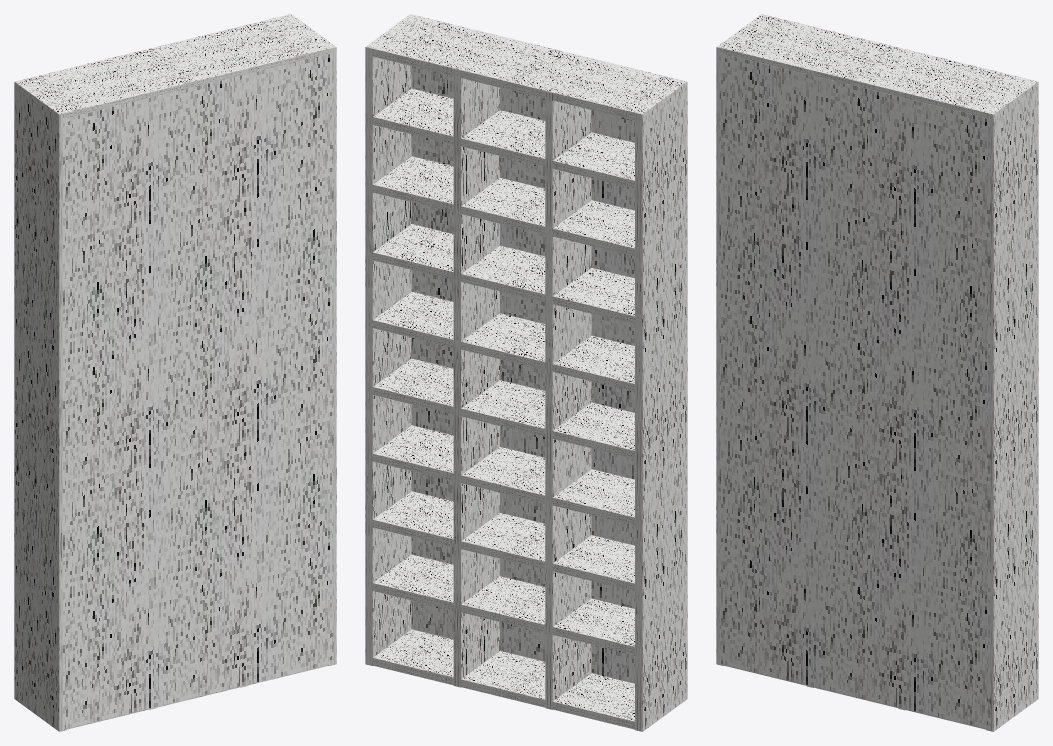
Rendered from clean_boobs_storage.glb.
3 views of the same model, side by side, from view 1: azimuth 30°, elevation 25°; view 2: azimuth 150°, elevation 25°; view 3: azimuth 330°, elevation 25° (orthographic).
Parts seen in each view (by area): view 1: Куб; view 2: Куб; view 3: Куб.
Part boxes in pixels (x1,y1,x2,y2): Куб: (14,14,336,731); Куб: (365,14,687,731); Куб: (716,14,1038,731).
Bounding box in the file's own units: 11.51 × 24.48 × 3.25.
Materials: 1 (1 with a texture image).
